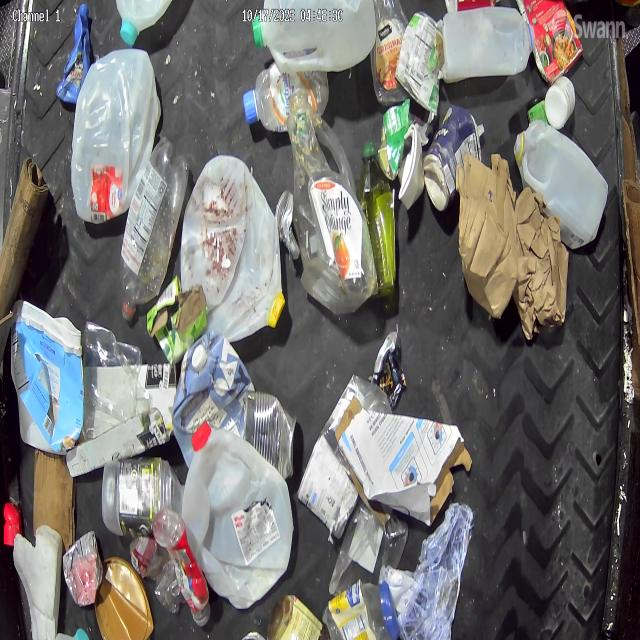can: (394, 11, 442, 117), (244, 392, 298, 478), (64, 530, 103, 608), (275, 189, 300, 266)
milk_jug: (181, 419, 295, 610), (183, 157, 282, 342), (74, 48, 161, 225), (511, 116, 608, 250), (252, 0, 378, 72), (442, 6, 536, 83), (113, 0, 178, 45)
non_white_jug: (14, 302, 84, 452)
plastic_bottle: (120, 147, 187, 317), (152, 502, 212, 626), (248, 65, 330, 135)
